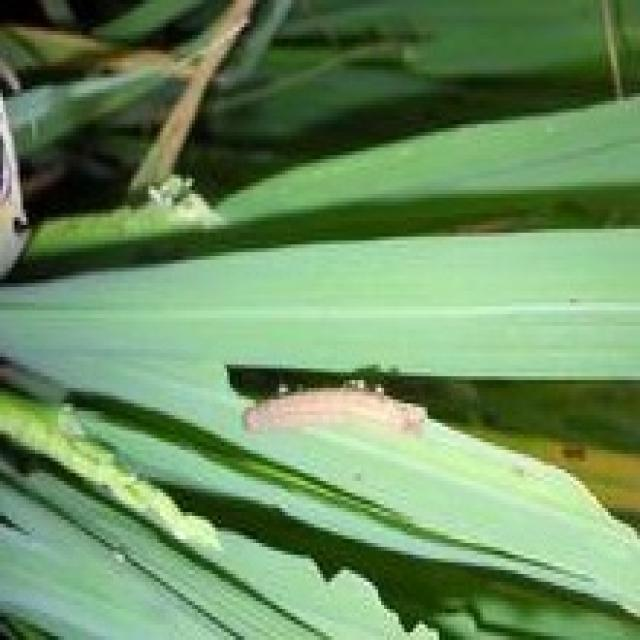army worm: (240, 369, 432, 455)
